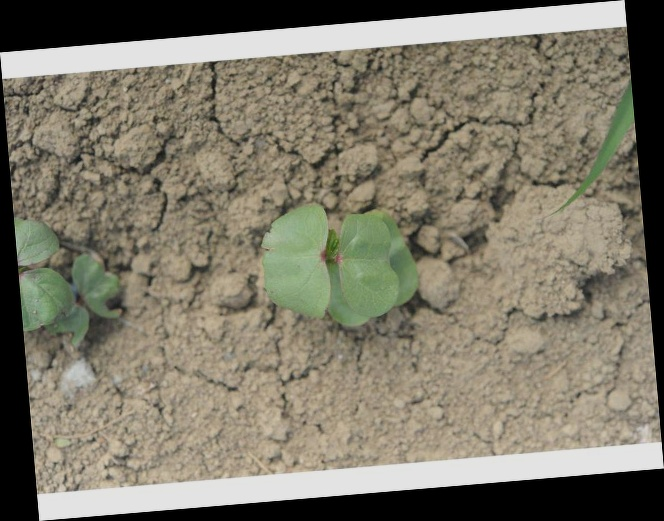cotton: (262, 199, 420, 329), (19, 213, 117, 346)
